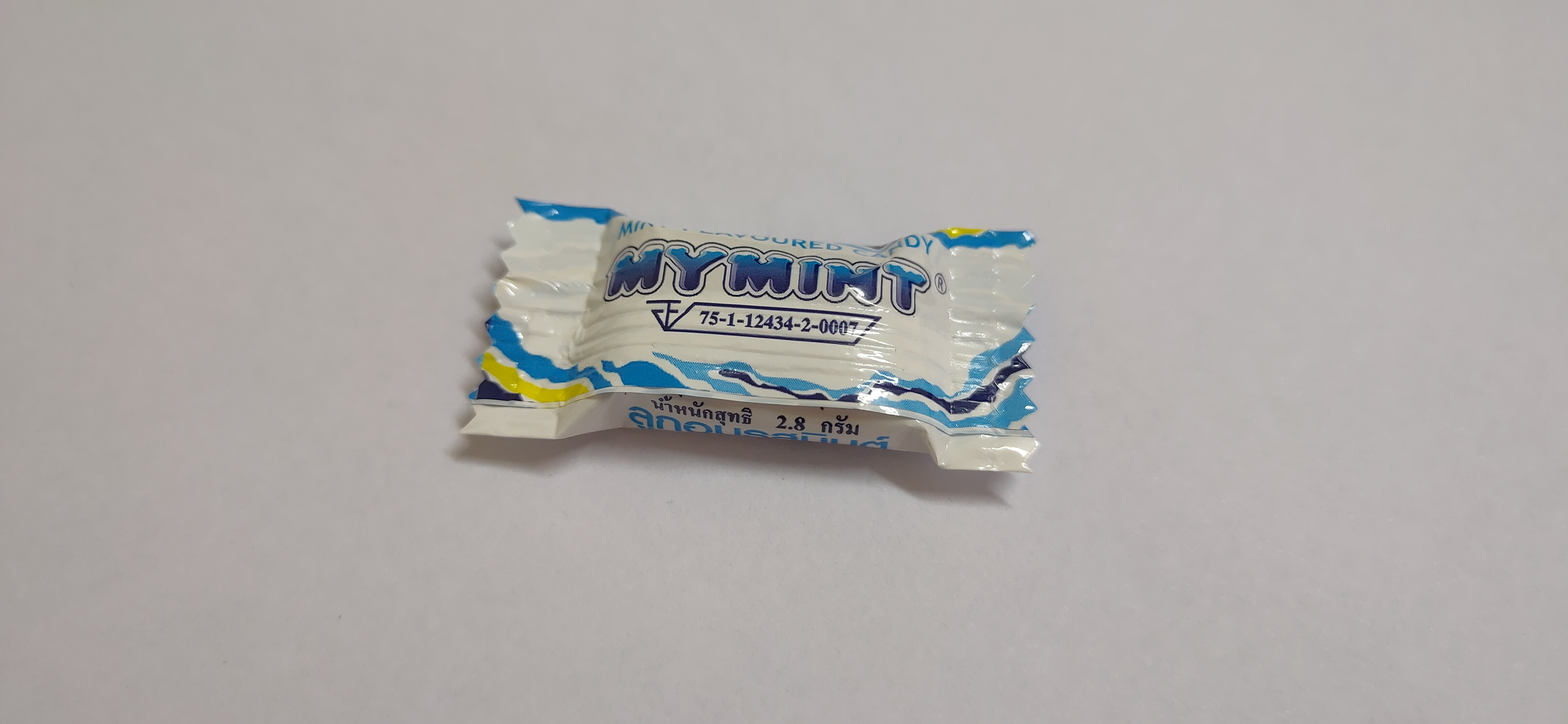plastic: (436, 167, 1073, 505)
